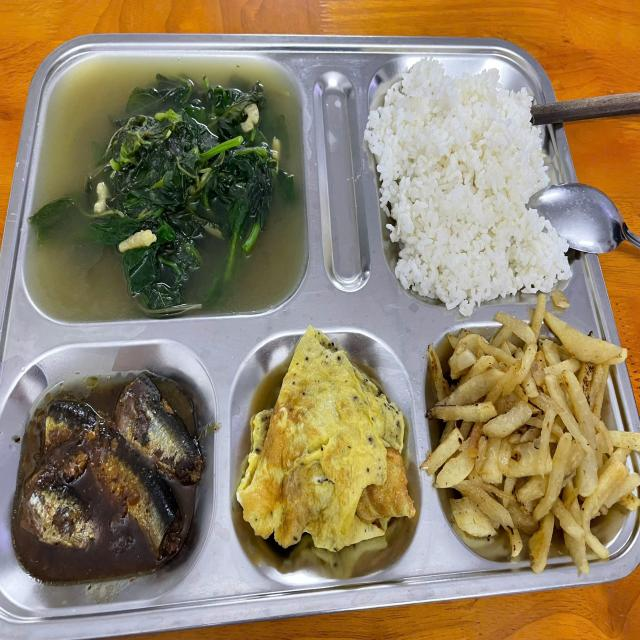cakho: (11, 384, 200, 570)
canhrau: (21, 49, 307, 326)
salad: (380, 69, 560, 289)
suon: (434, 332, 630, 545)
trungluoc: (245, 340, 406, 560)
